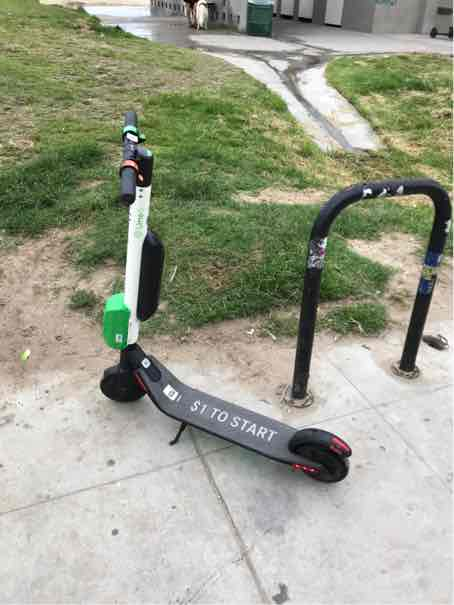scooter: (84, 102, 349, 493)
